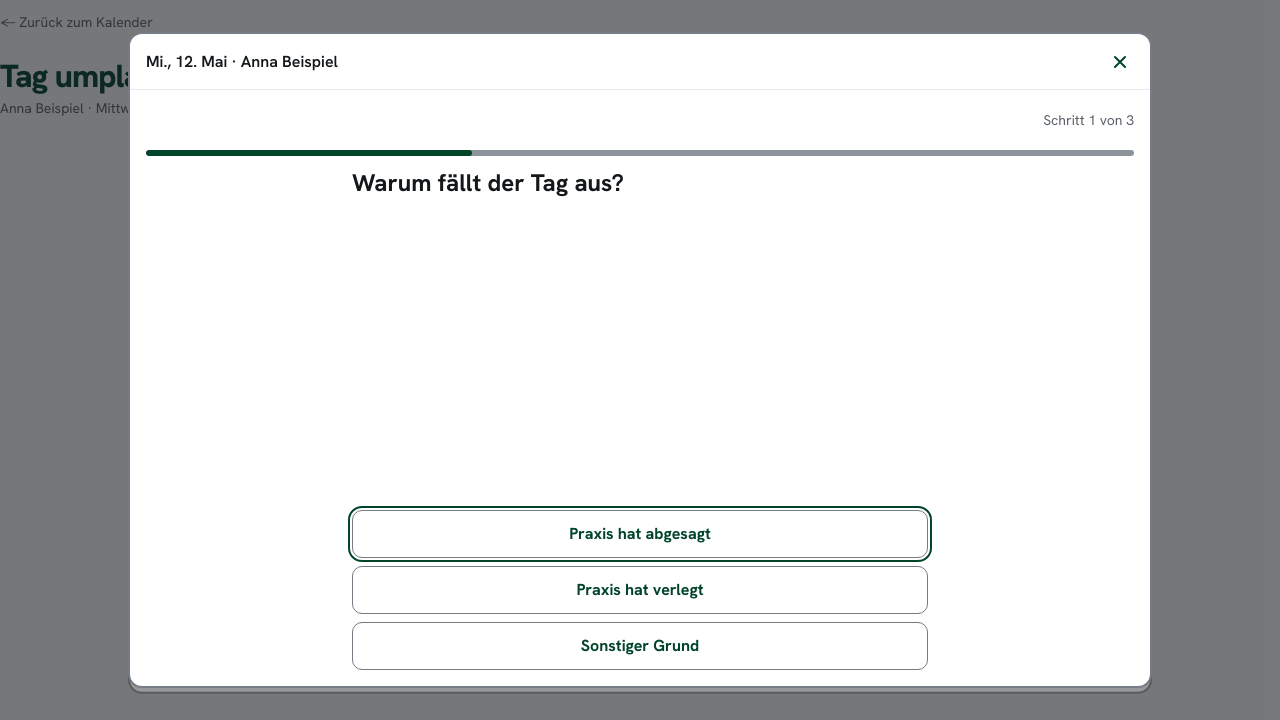
Test case: TagUmplanenPage › laesst ein Ereignis des Praxisbetriebs aussen vor
The image size is (1280, 720).
Step 1. Click the button "Praxis hat abgesagt" → (640, 534), box [352,510,928,558]
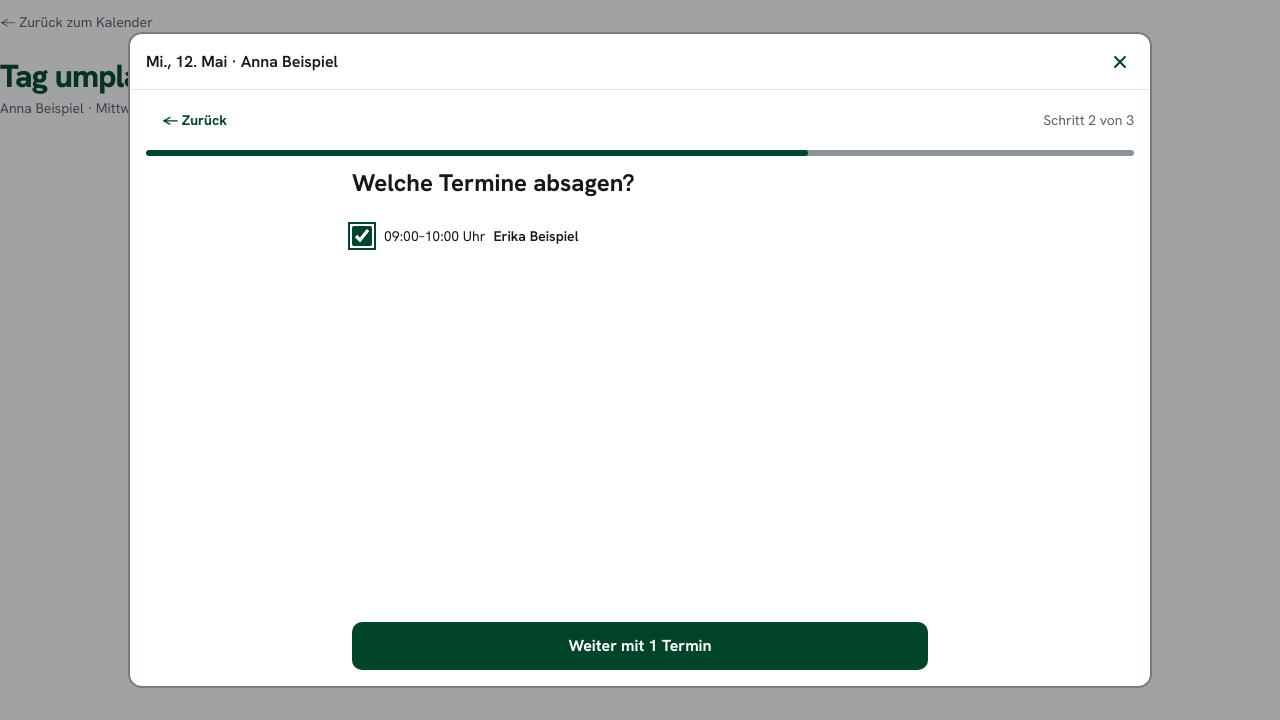
Now the number of checkboxes is 1, box [352,226,372,246]
